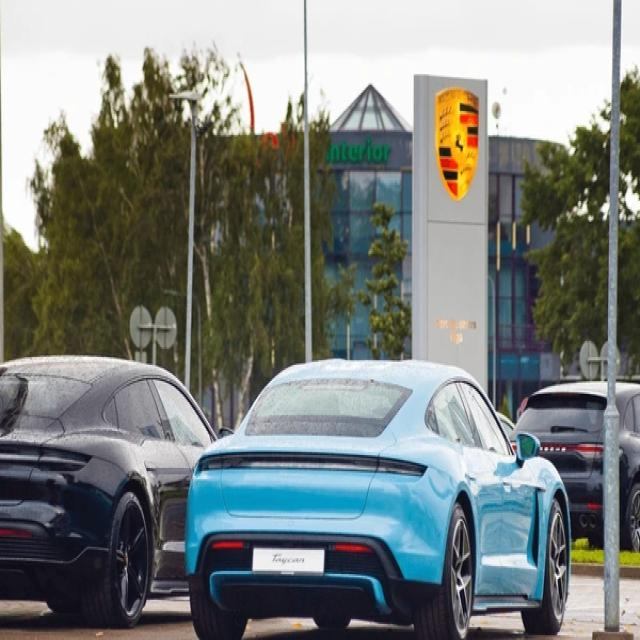porsche: (433, 83, 482, 212)
